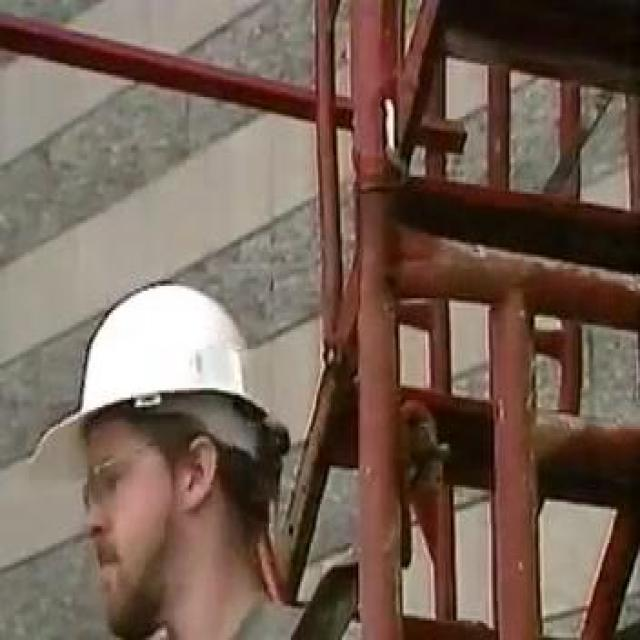Safety-Helmet: (33, 272, 300, 478)
